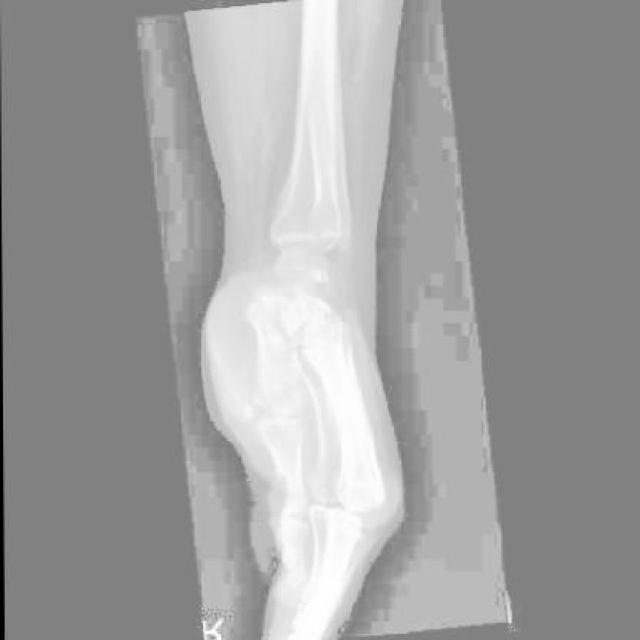Fracture: (311, 274, 339, 302)
